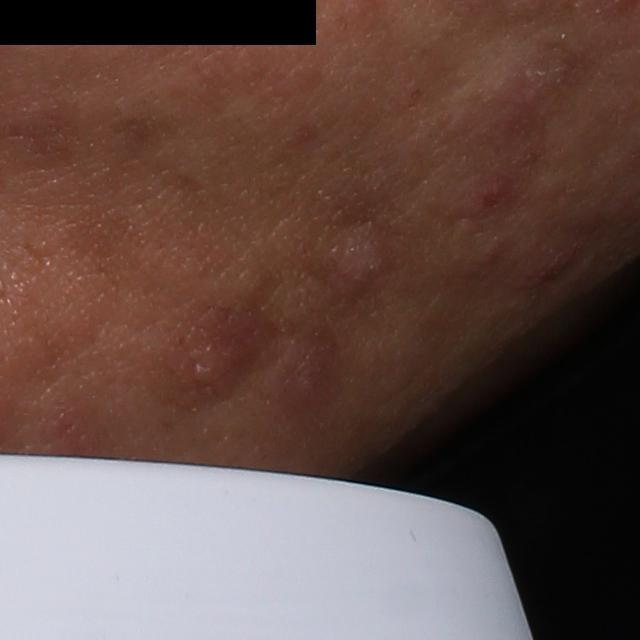papule: (325, 219, 395, 313), (463, 163, 529, 223), (185, 346, 241, 395)
